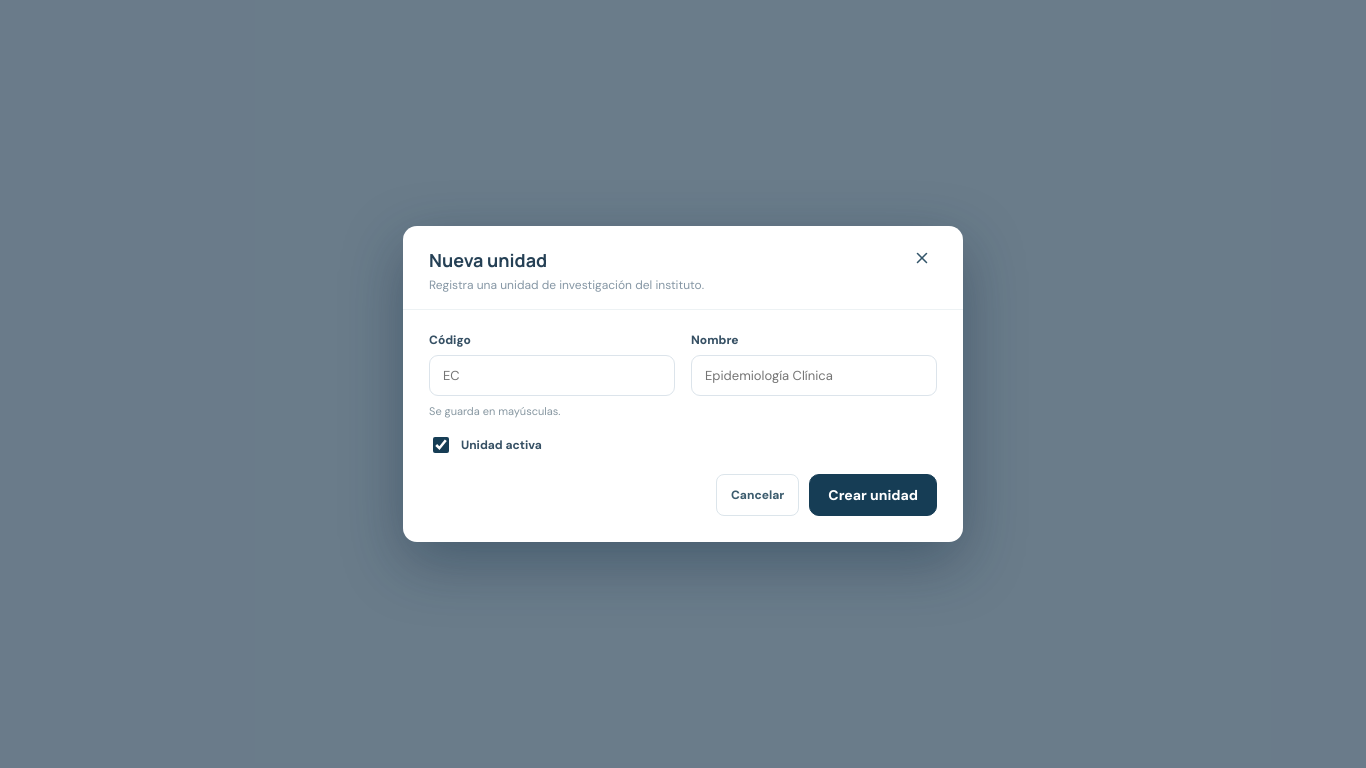
Test: UnitFormModal › muestra el error general cuando la falla no es de un campo (p. ej. sin permiso)
This screenshot has width=1366, height=768.
Step 1. Type "ZZ" into the field labelled "Código Se guarda en mayúsculas." → (552, 376), box top-left (429, 355), bottom-right (675, 396)
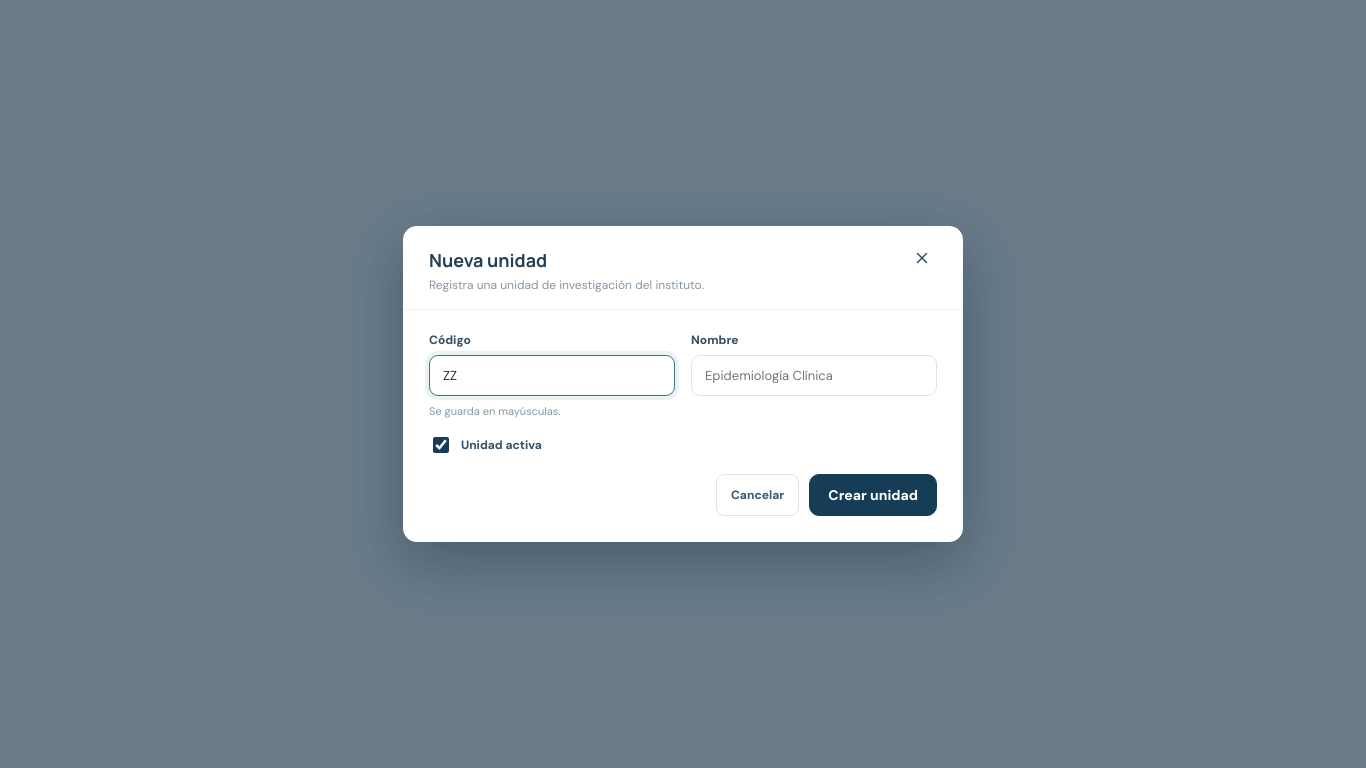
Step 2. Type "Nueva" into the field labelled "Nombre" → (814, 376), box top-left (691, 355), bottom-right (937, 396)
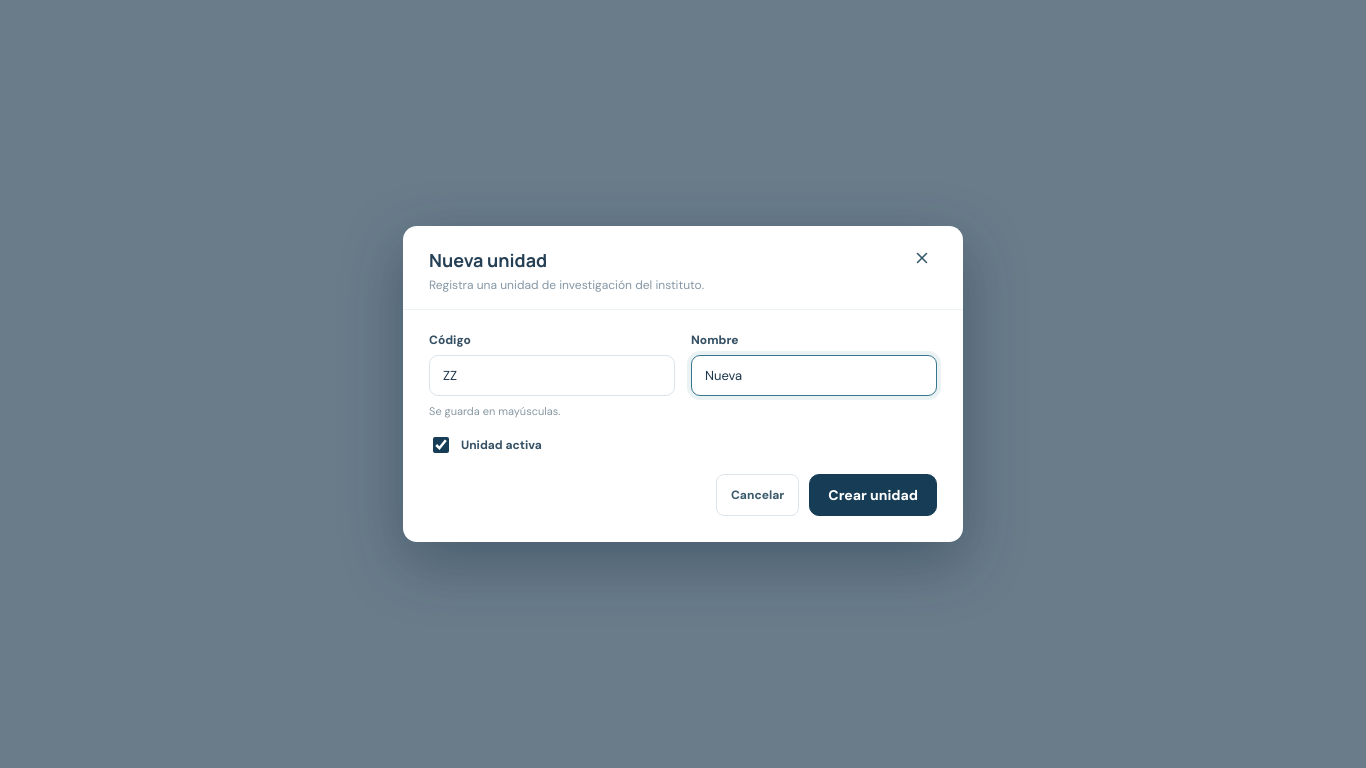
Step 3. Click the button "Crear unidad" → (873, 495), box top-left (809, 474), bottom-right (937, 516)
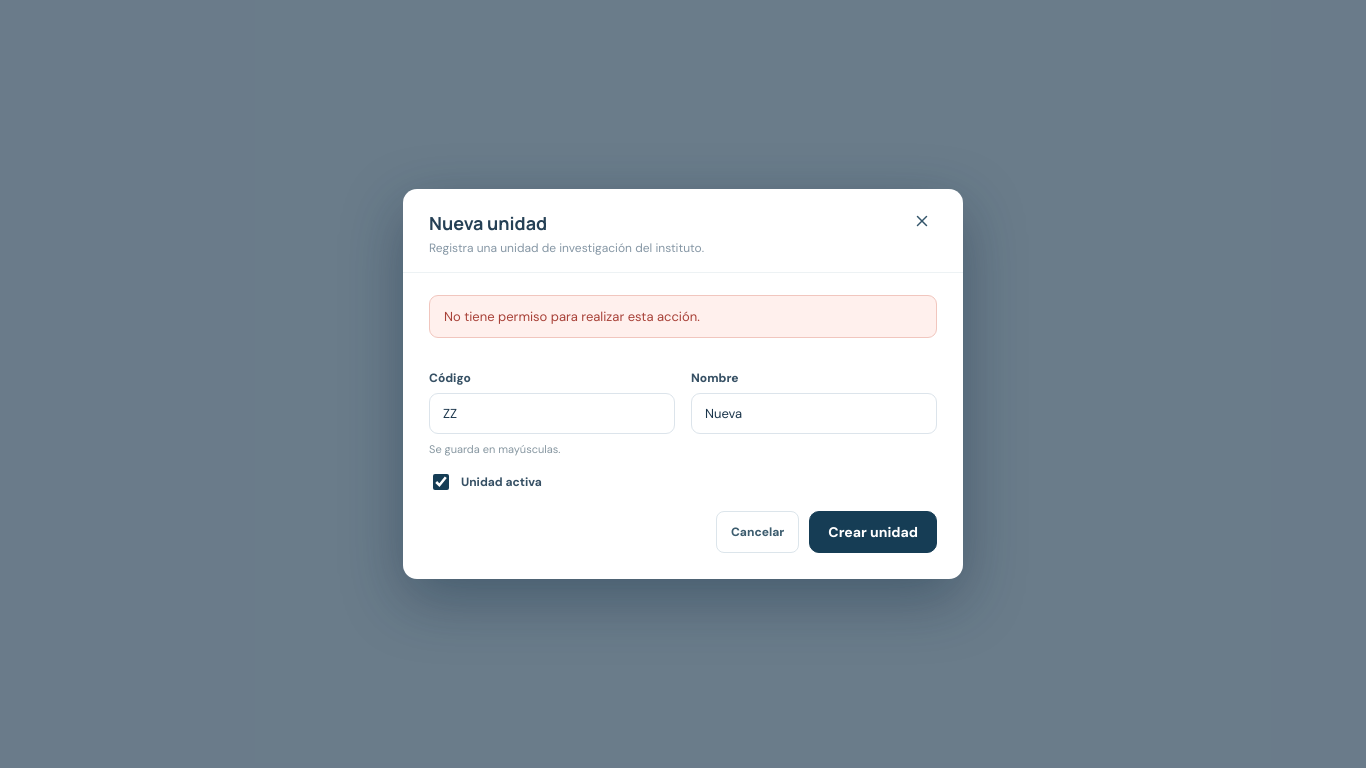
Result: the message reads "No tiene permiso para realizar esta acción." at top-left (444, 308), bottom-right (700, 325)
